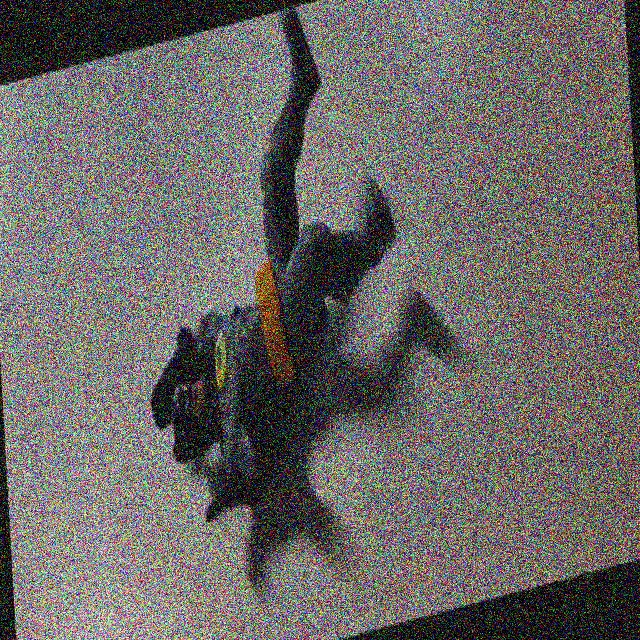Batman: (125, 0, 409, 581)
